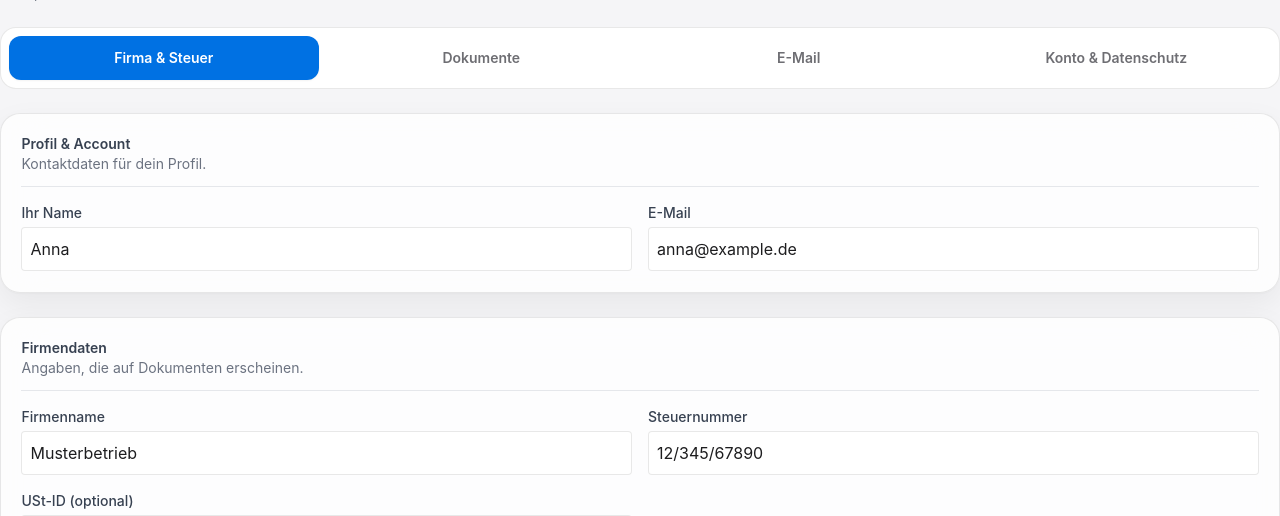
SettingsView navigation › uses understandable German labels for document settings
Check: the heading "Firmendaten" is shown, box [22,339,107,356]
Click the button "Dokumente". click: (481, 58)
box: [326,36,636,80]
(page scrolled)
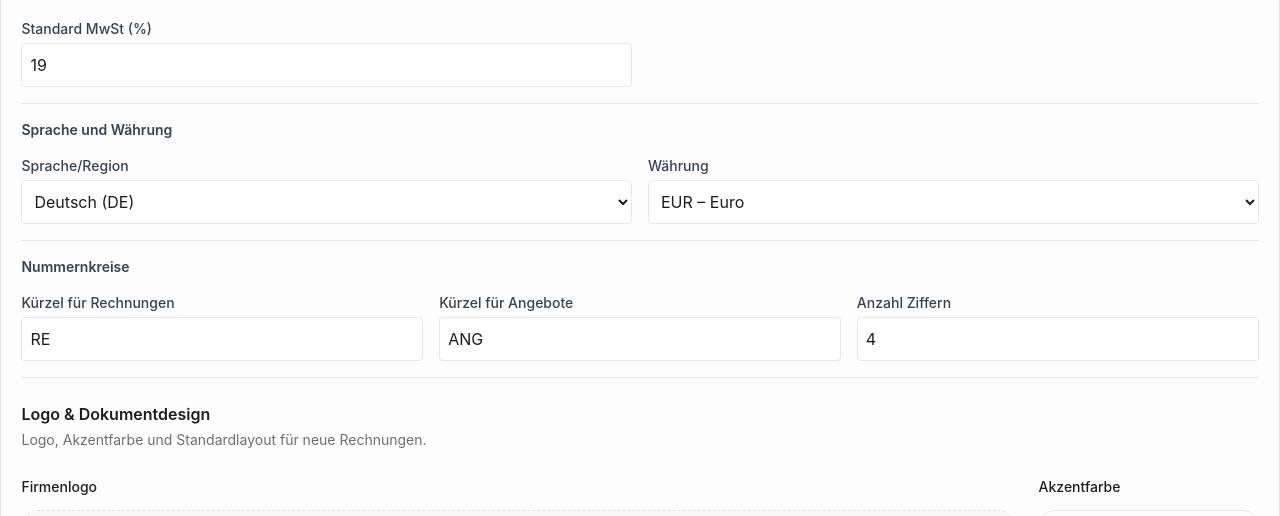
Check: the text "Sprache und Währung" is shown, box [22,121,172,138]
Check: the text "Kürzel für Rechnungen" is shown, box [22,294,175,311]
Check: the text "Anzahl Ziffern" is shown, box [857,294,951,311]
